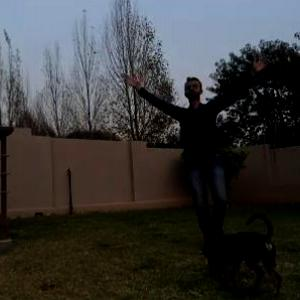takeoff: (121, 45, 299, 253)
